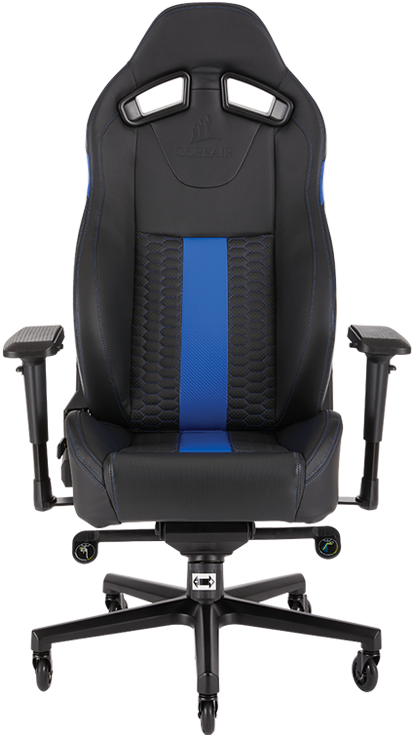chair: (1, 1, 407, 742)
